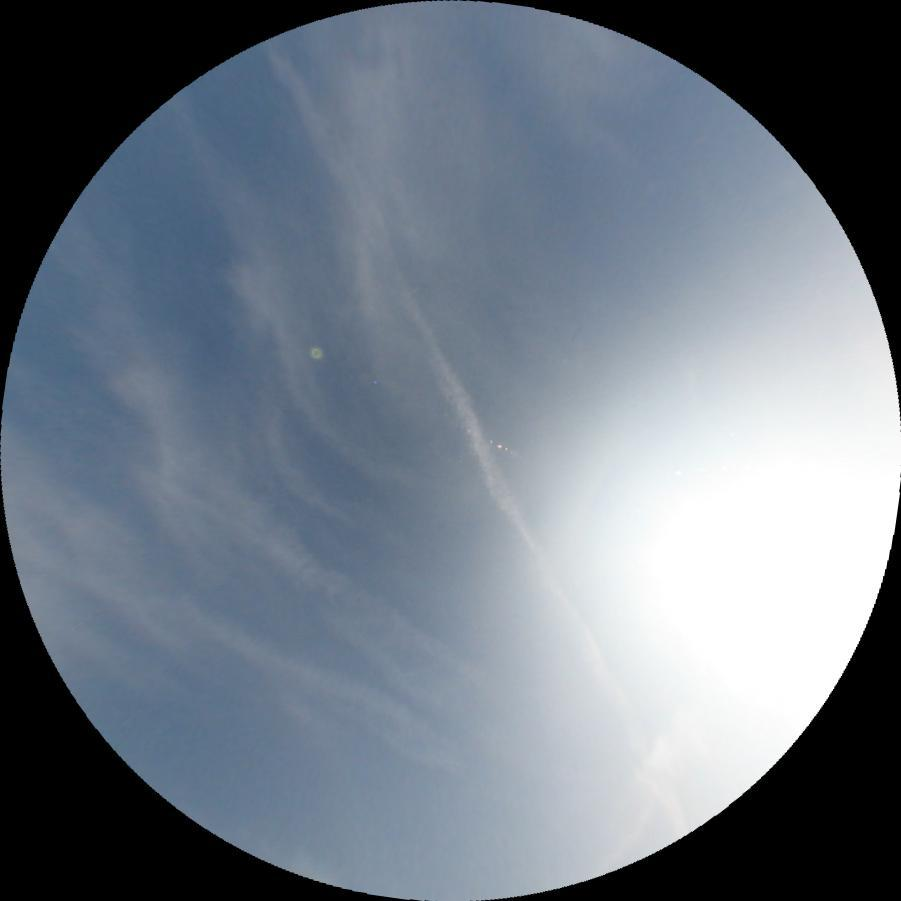contrail veryold: (255, 40, 698, 841), (210, 498, 533, 758), (124, 588, 474, 788)
sun: (627, 437, 900, 716)
